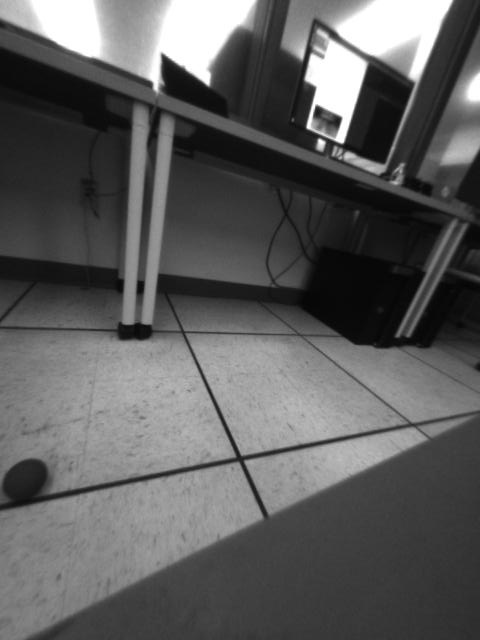dogtoy: (1, 450, 59, 504)
